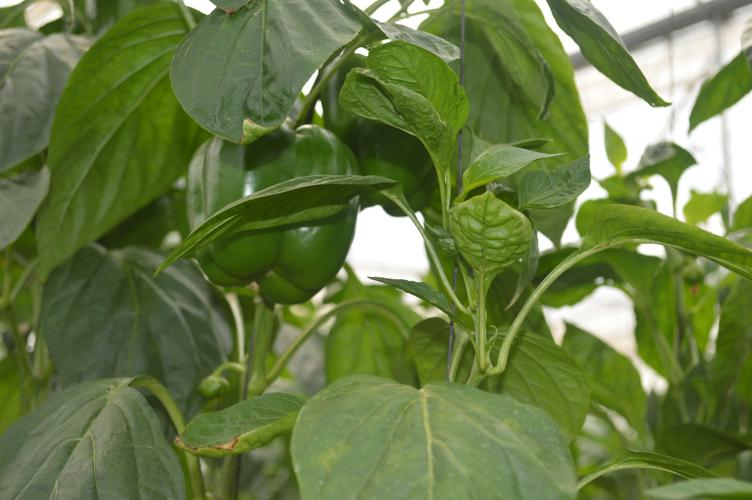BellPepper: (189, 126, 360, 304), (325, 55, 434, 213)
